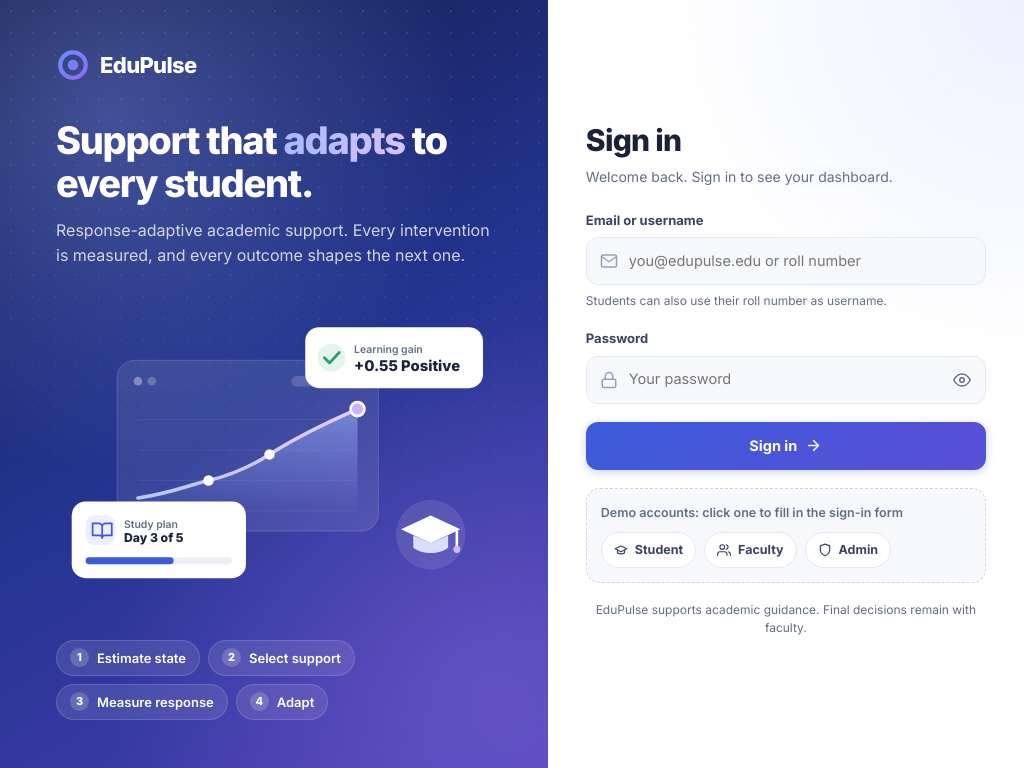
Test: Login page › fills the form from a demo account
Click the button "Faculty".
click(750, 550)  # box [704,532,797,568]
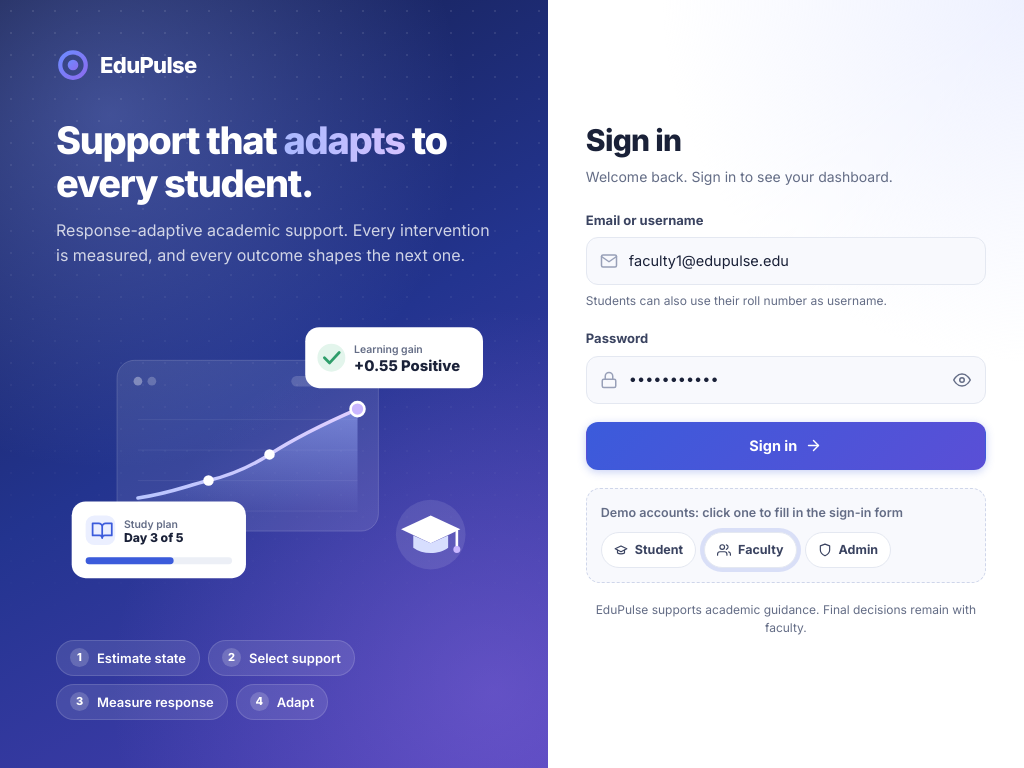
Expected: the field labelled "Email or username" holds "faculty1@edupulse.edu", [586,237,986,285]
Expected: the password field labelled "Password" holds "Faculty@123", [586,356,986,404]
